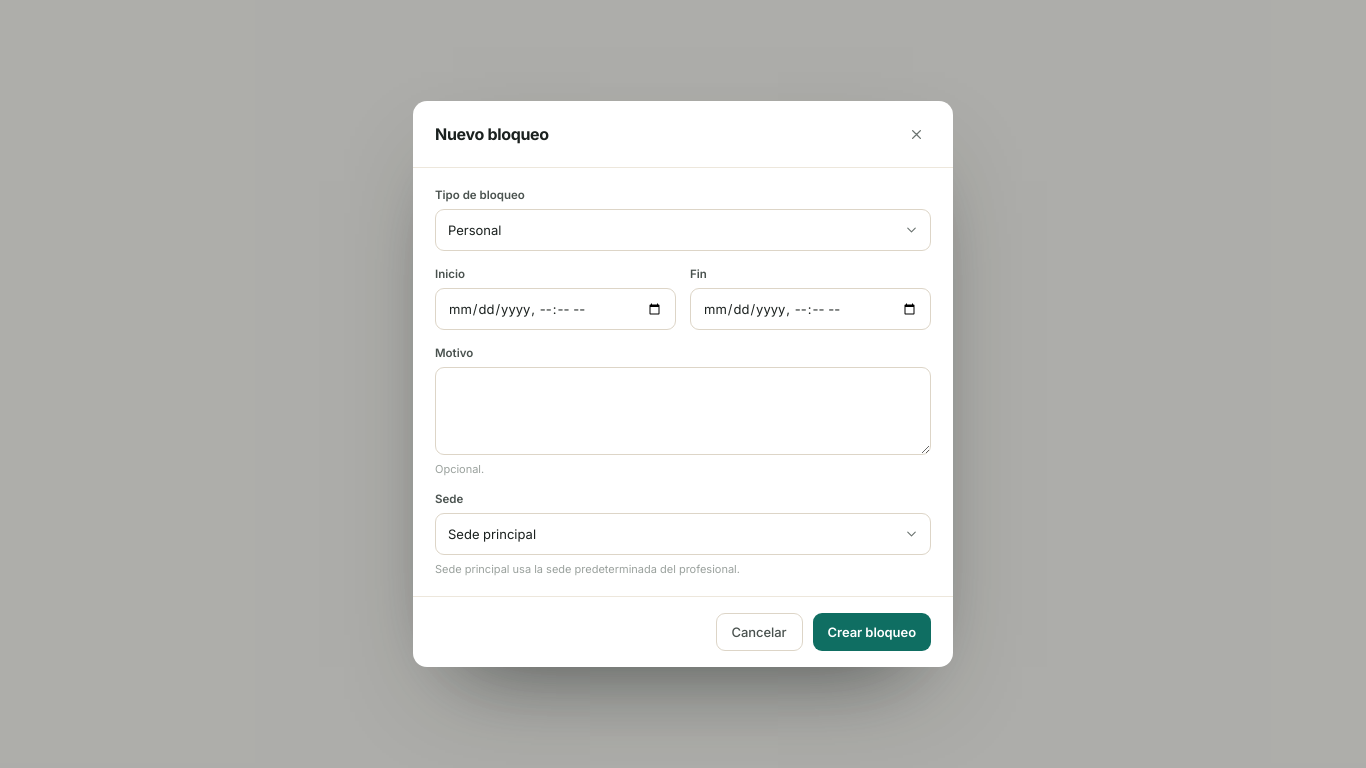
Scenario: ScheduleBlockModal validation › blocks an end that is not after the start and does not submit
The width and height of the screenshot is (1366, 768).
In the field labelled "Inicio": point(556, 309) [435,288,676,330], type "2026-09-20T14:00"
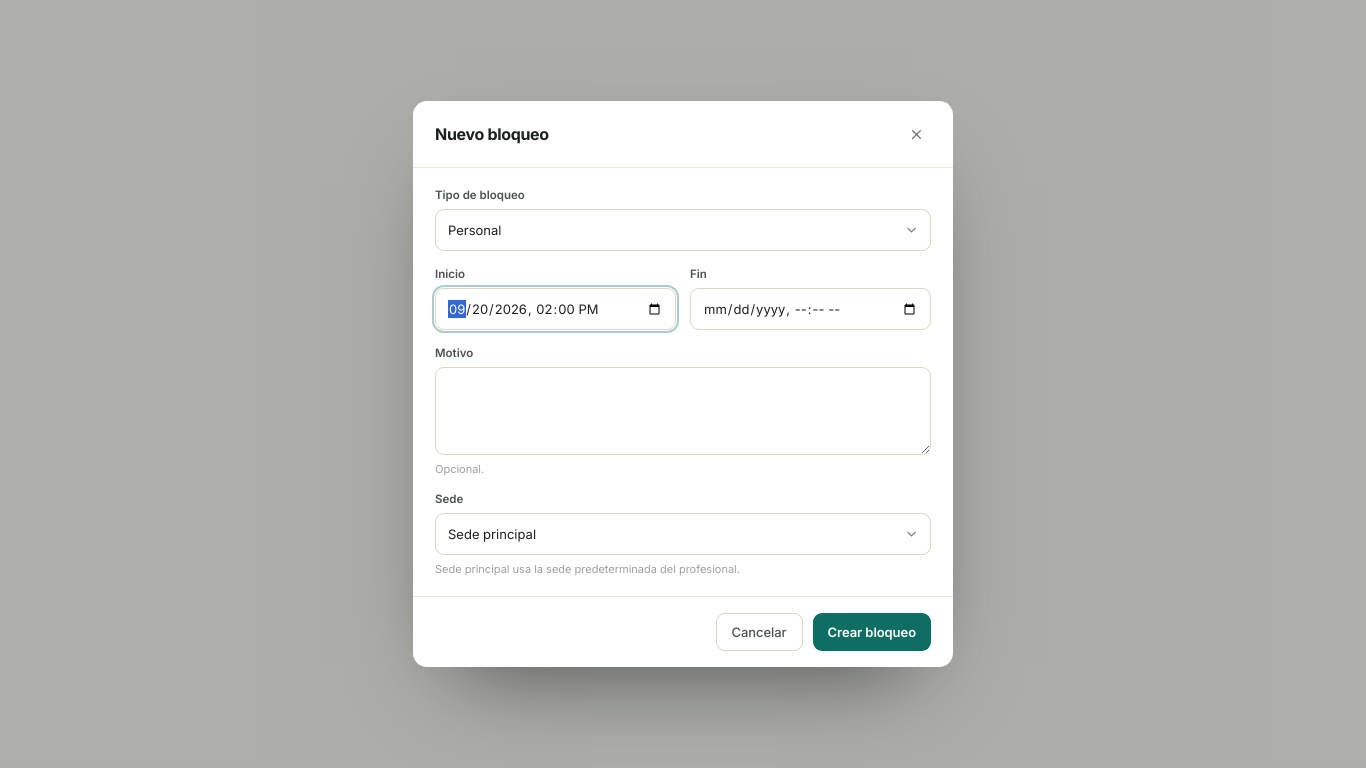
In the field labelled "Fin": point(810, 309) [690,288,931,330], type "2026-09-20T13:00"
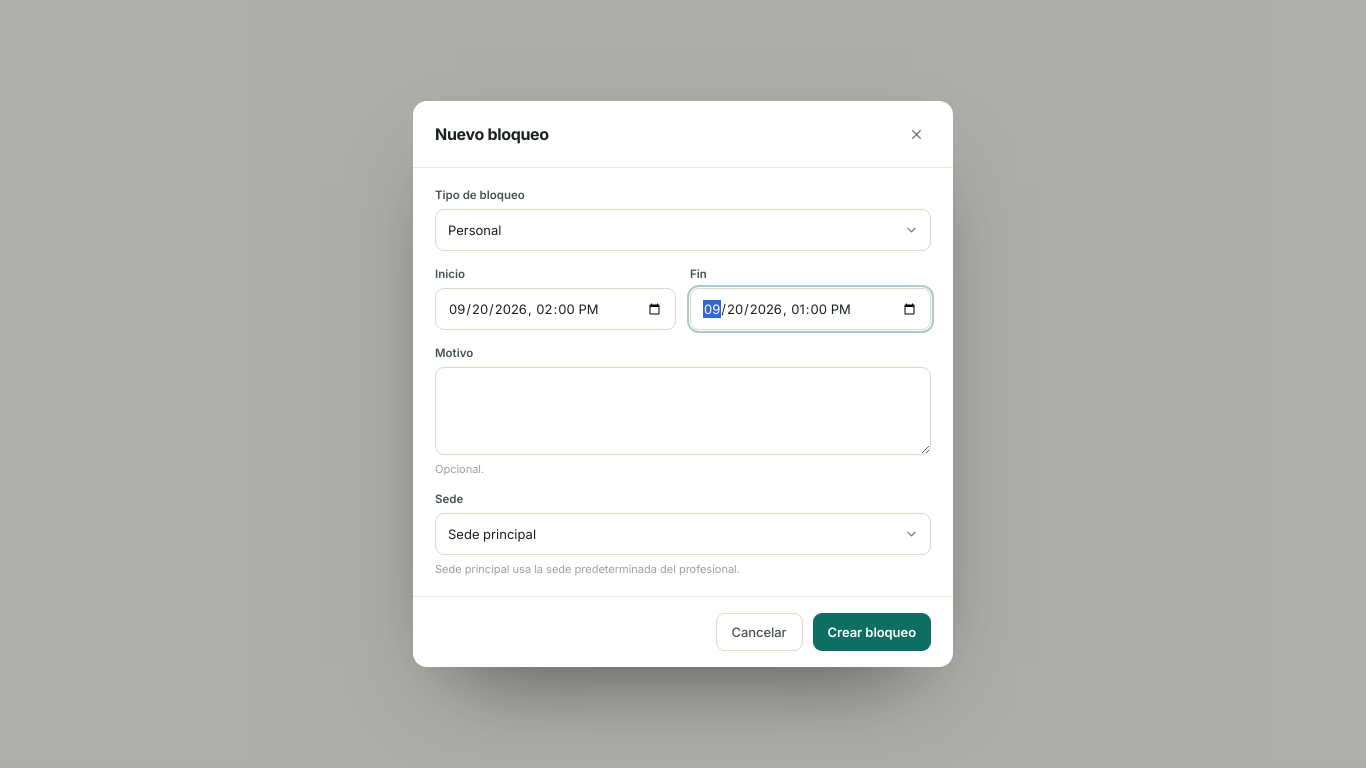
Click the button "Crear bloqueo": point(872, 632) [813,613,931,651]
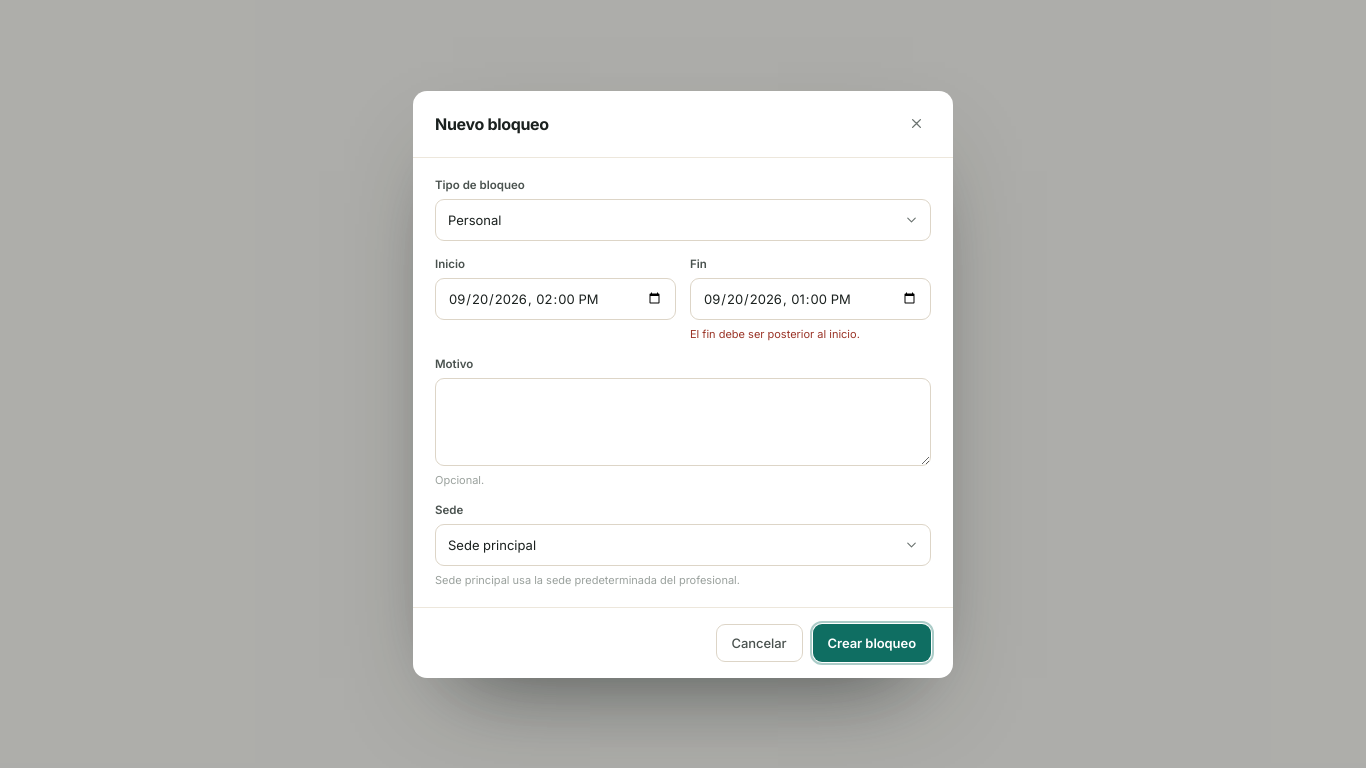
Expected: the text "El fin debe ser posterior al inicio." is shown, [690,326,860,340]
